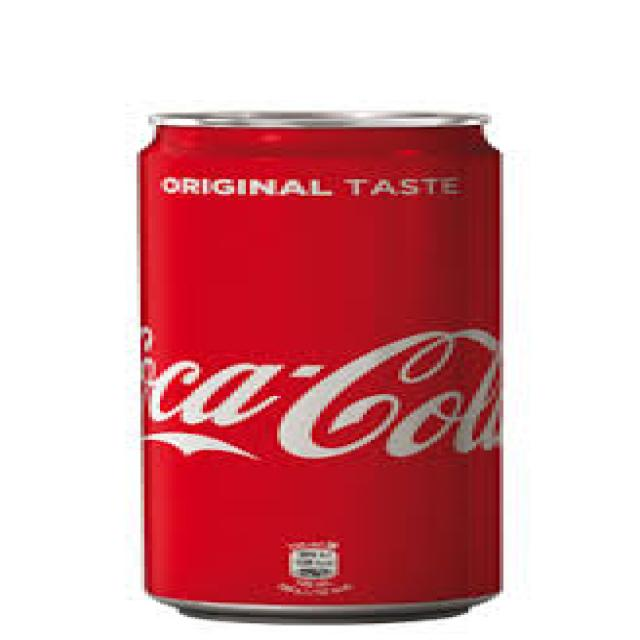cocacola: (126, 109, 513, 624)
